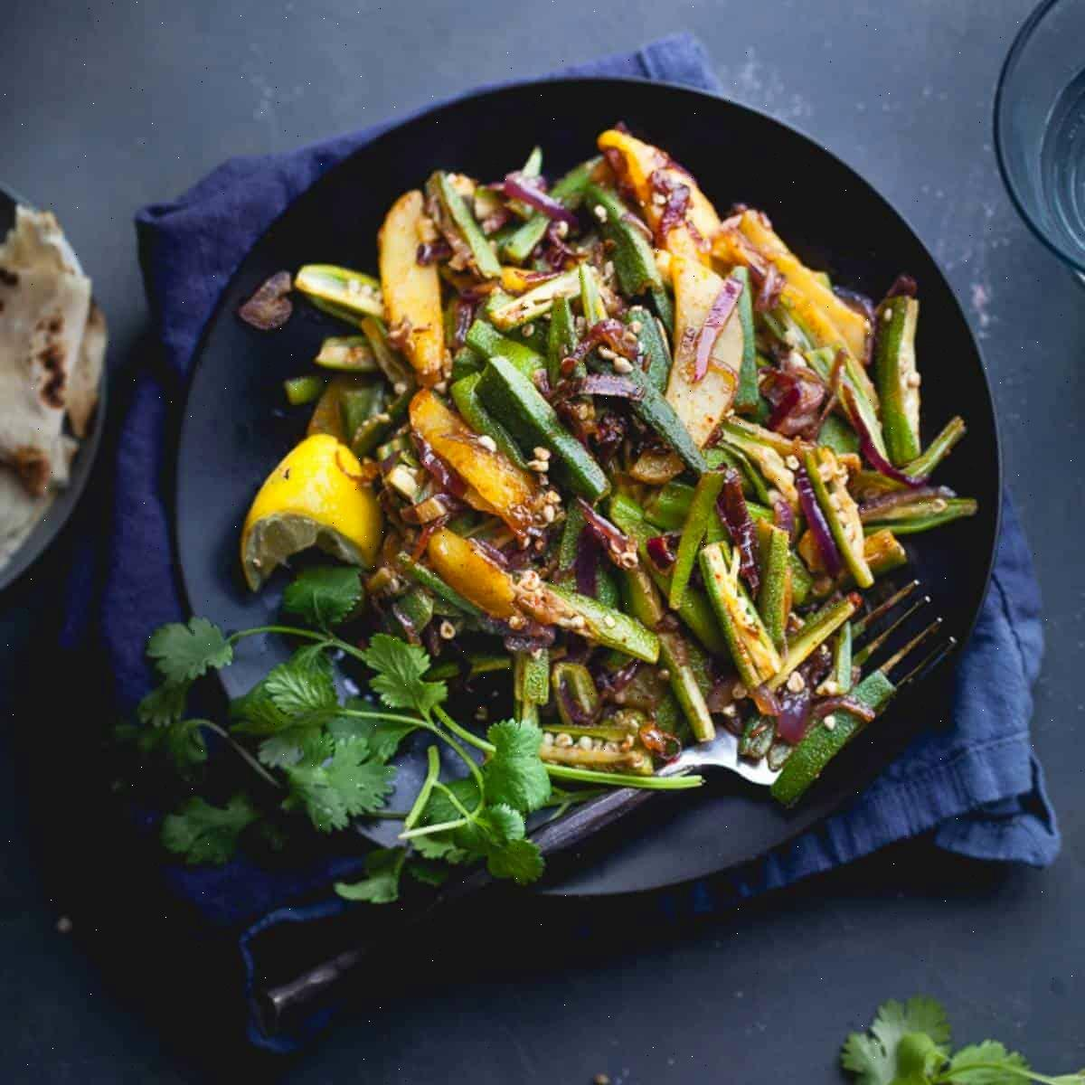bhindi: (317, 185, 947, 774)
